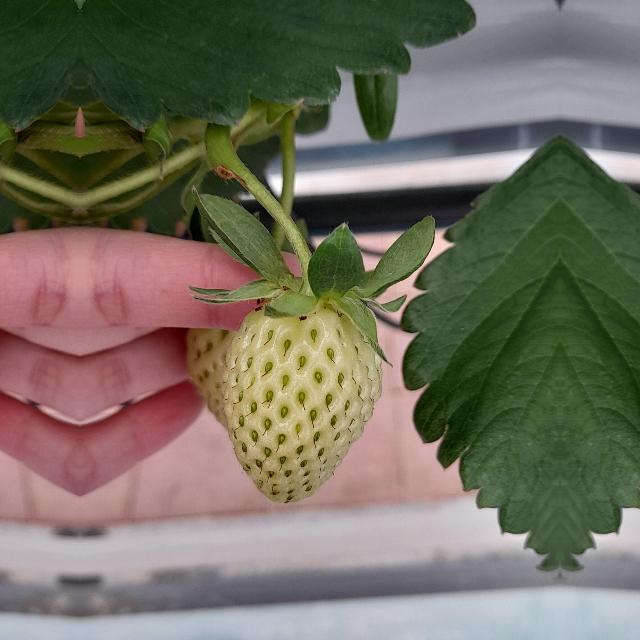Health_25: (220, 300, 382, 502)
